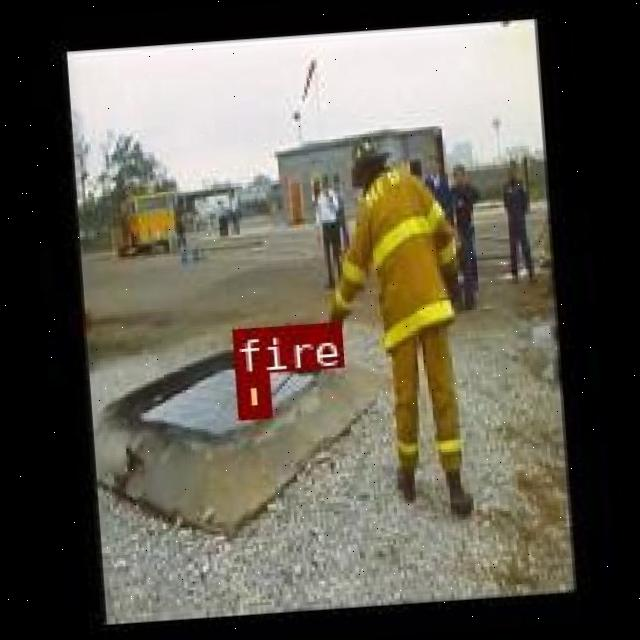fire: (235, 371, 268, 417)
